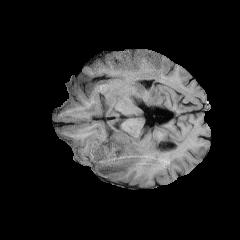glioma: (88, 132, 141, 176)
